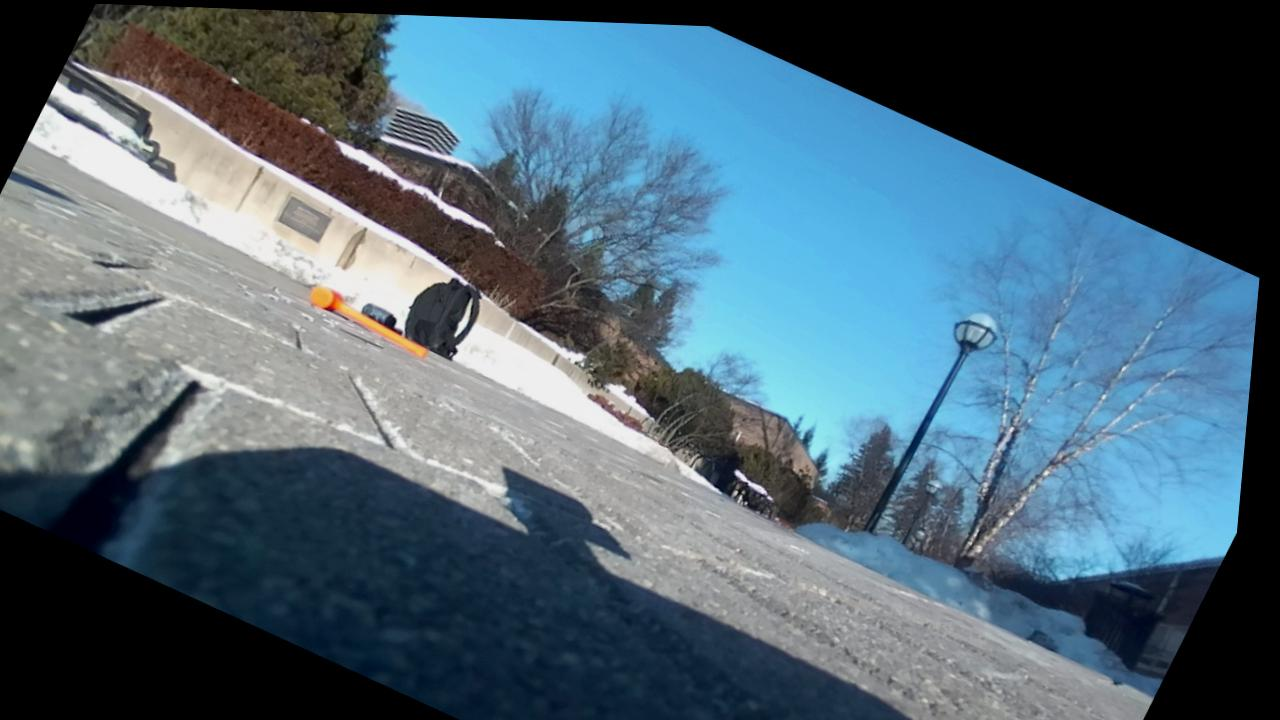mallet: (310, 285, 427, 357)
